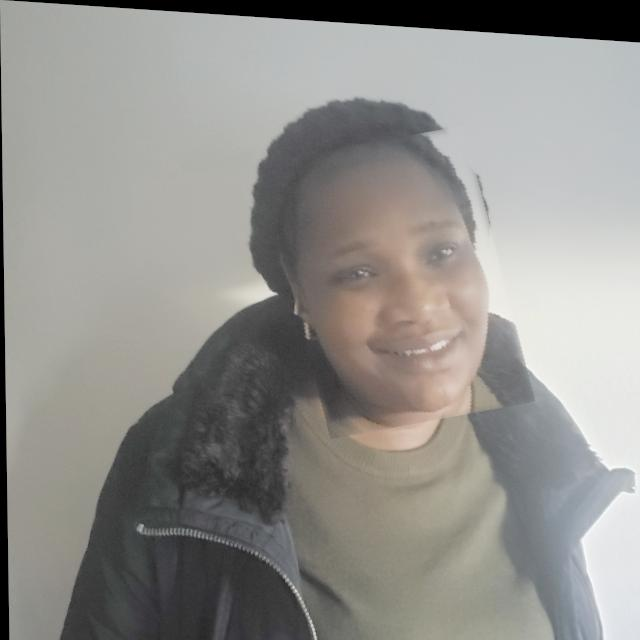happy: (274, 120, 520, 434)
